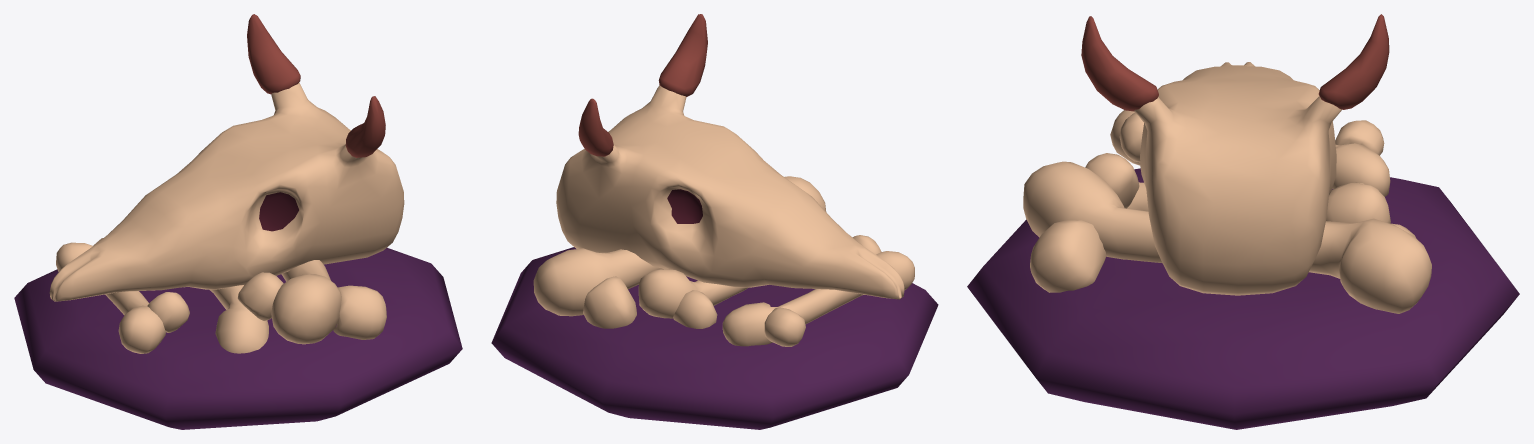
The model's file is CowSkull_w_Pillow.fbx.
3 renders of one model, left to right at view 1: azimuth 30°, elevation 25°; view 2: azimuth 150°, elevation 25°; view 3: azimuth 270°, elevation 25°, orthographic. The views are drawn at different scales.
Parts seen in each view (by area): view 1: CowSkull_w_Pillow; view 2: CowSkull_w_Pillow; view 3: CowSkull_w_Pillow.
Part boxes in pixels (bbox=[...]): CowSkull_w_Pillow: bbox=[14, 14, 462, 429]; CowSkull_w_Pillow: bbox=[491, 14, 938, 429]; CowSkull_w_Pillow: bbox=[967, 14, 1519, 429].
Size of the model in its own units: 59.37 by 40.71 by 55.87.
